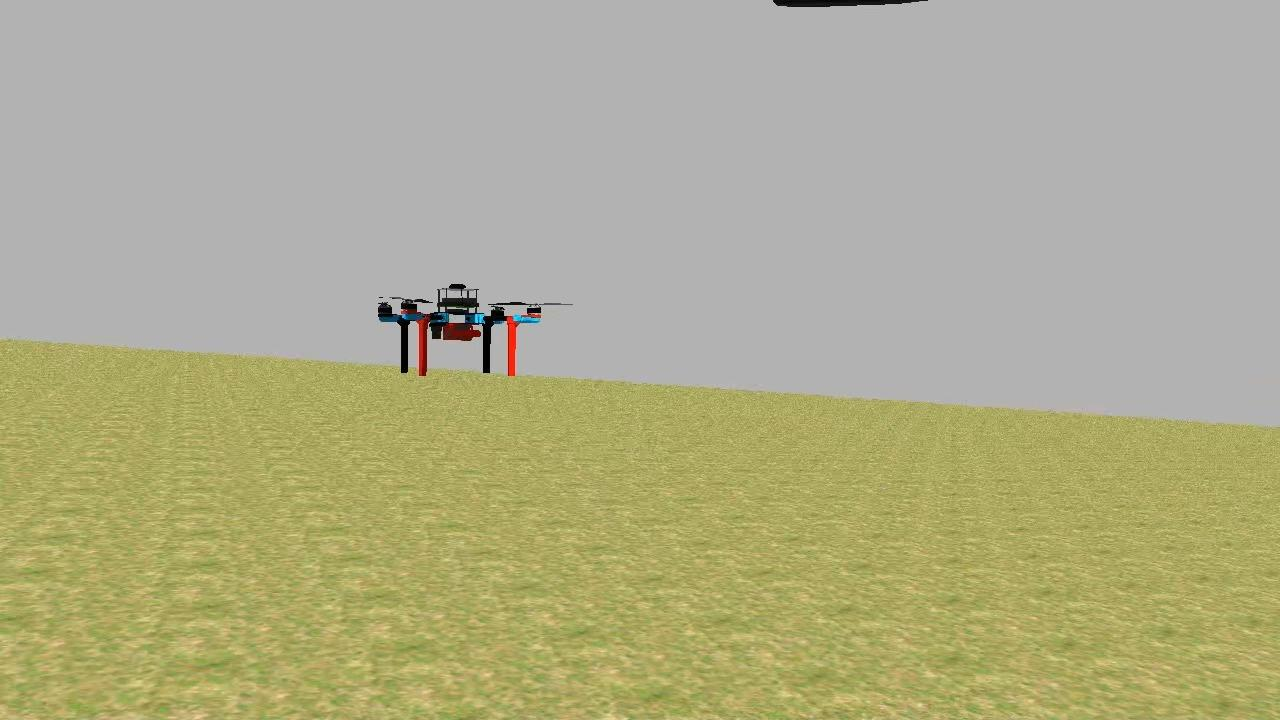UAV: (370, 278, 548, 378)
